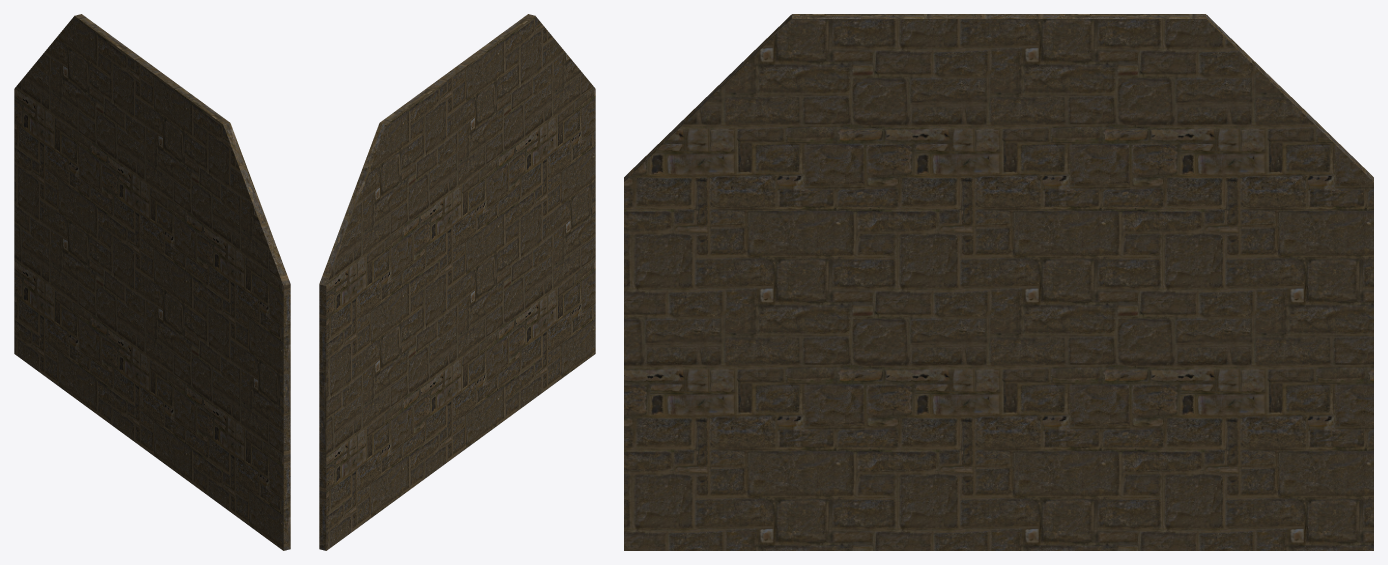
Rendered from LibraryWall.fbx.
3 renders of one model, left to right at view 1: azimuth 30°, elevation 25°; view 2: azimuth 150°, elevation 25°; view 3: azimuth 270°, elevation 25°, orthographic. The views are drawn at different scales.
Parts seen in each view (by area): view 1: Cube.045; view 2: Cube.045; view 3: Cube.045.
Boxes of the visible parts, <box> form: Cube.045: <box>14,14,290,550</box>; Cube.045: <box>319,14,595,550</box>; Cube.045: <box>624,14,1373,550</box>.
Bounding box in the file's own units: 20.97 × 1064 × 1359.
